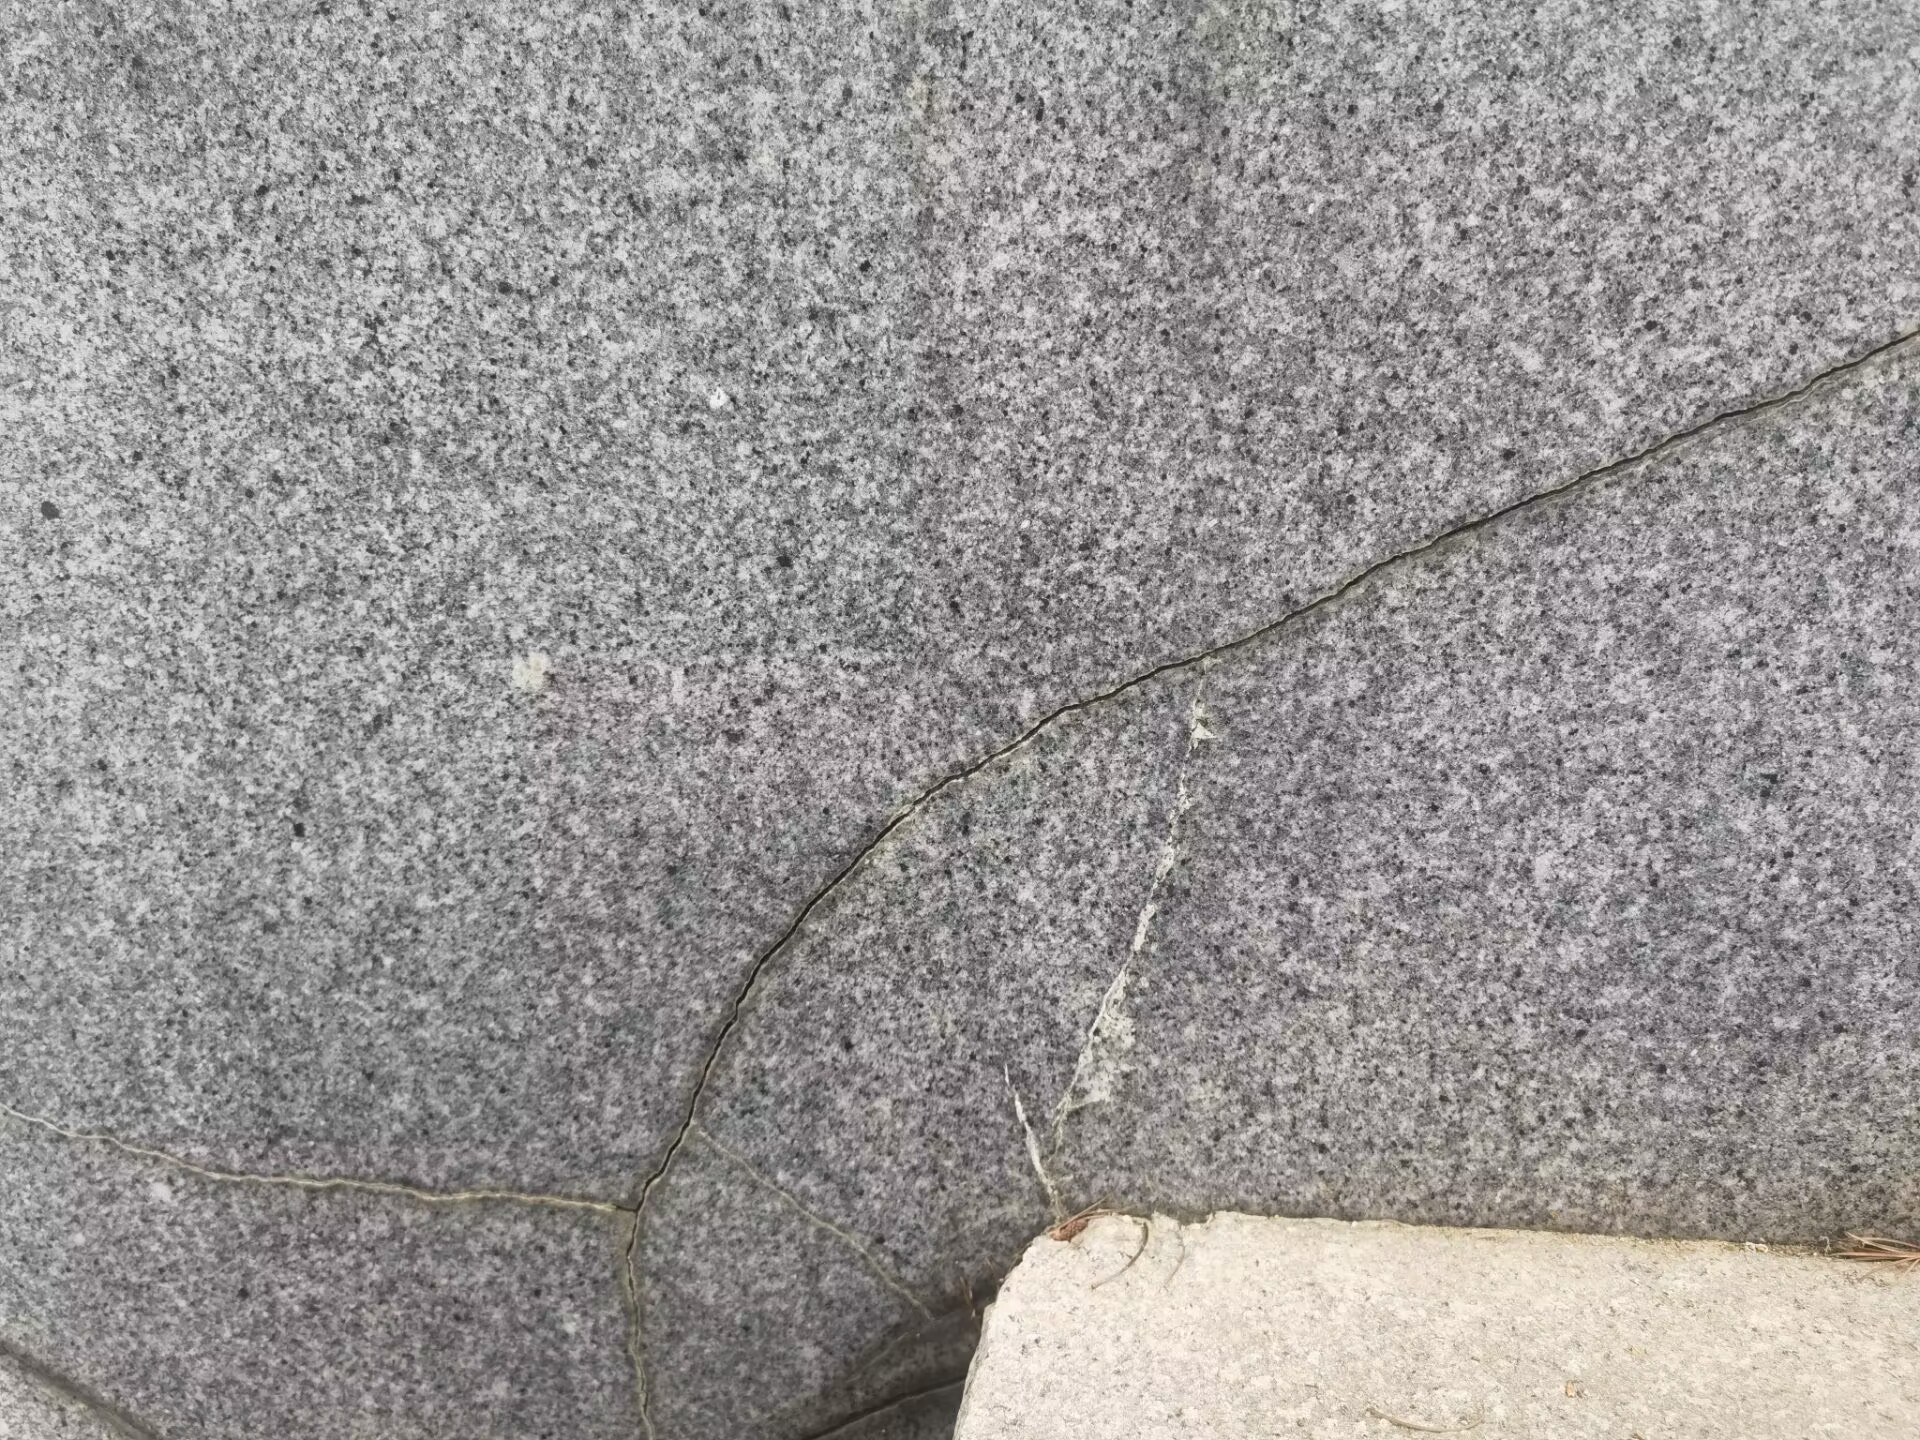TILE: (3, 322, 1917, 1440)
